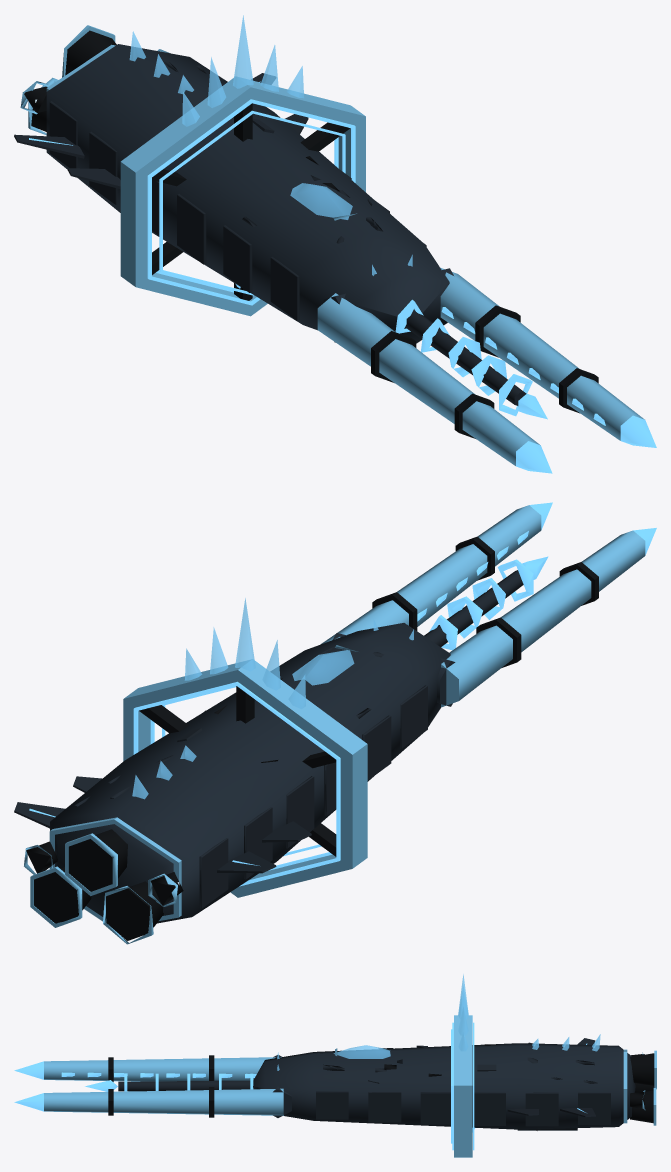
The model's file is kamerton-rezonanci-hawk-61-lod1.glb.
3 views of the same model, one above another, from view 1: azimuth 30°, elevation 25°; view 2: azimuth 150°, elevation 25°; view 3: azimuth 270°, elevation 25° (orthographic). The views are drawn at different scales.
Size of the model in its own units: 9.81 by 10.7 by 33.81.
